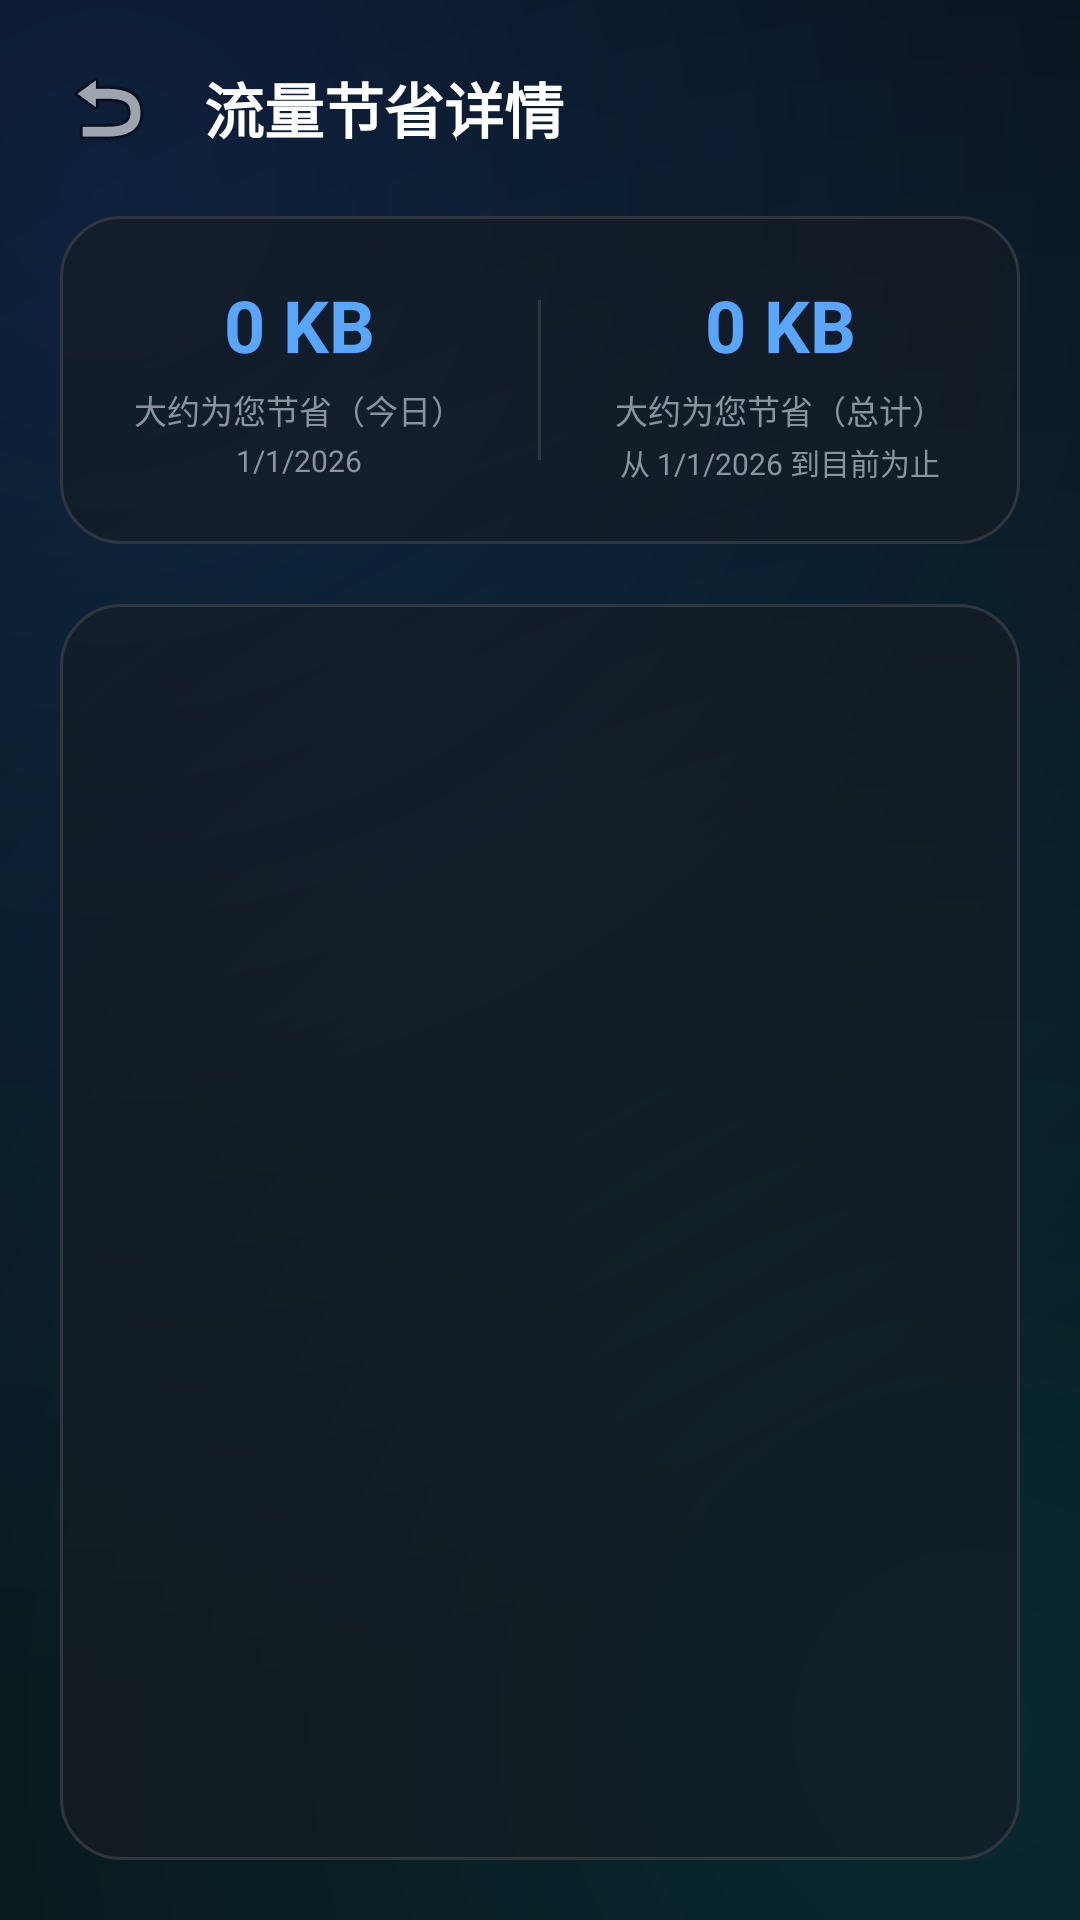

Named icons in this screenshot (1080 × 1920) and their centers, (x,y):
revert: (109,108)
